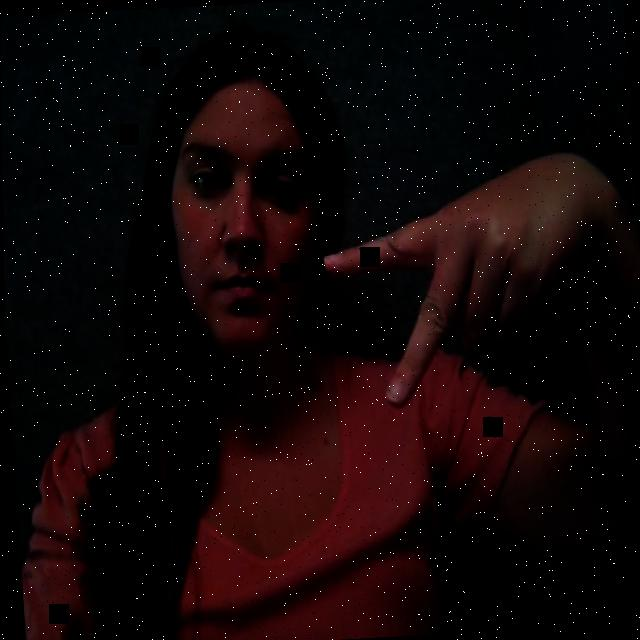Scissors: (305, 134, 640, 454)
